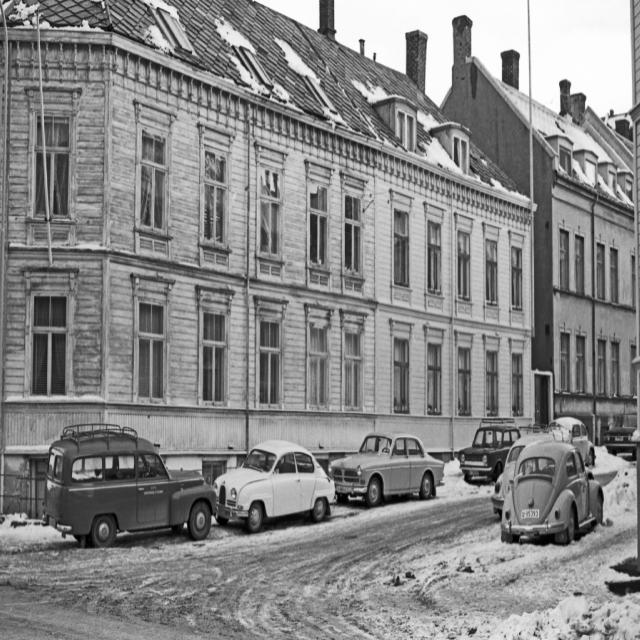car: (45, 422, 215, 542), (214, 434, 338, 531), (503, 434, 603, 540), (334, 427, 444, 507), (459, 416, 520, 476)
